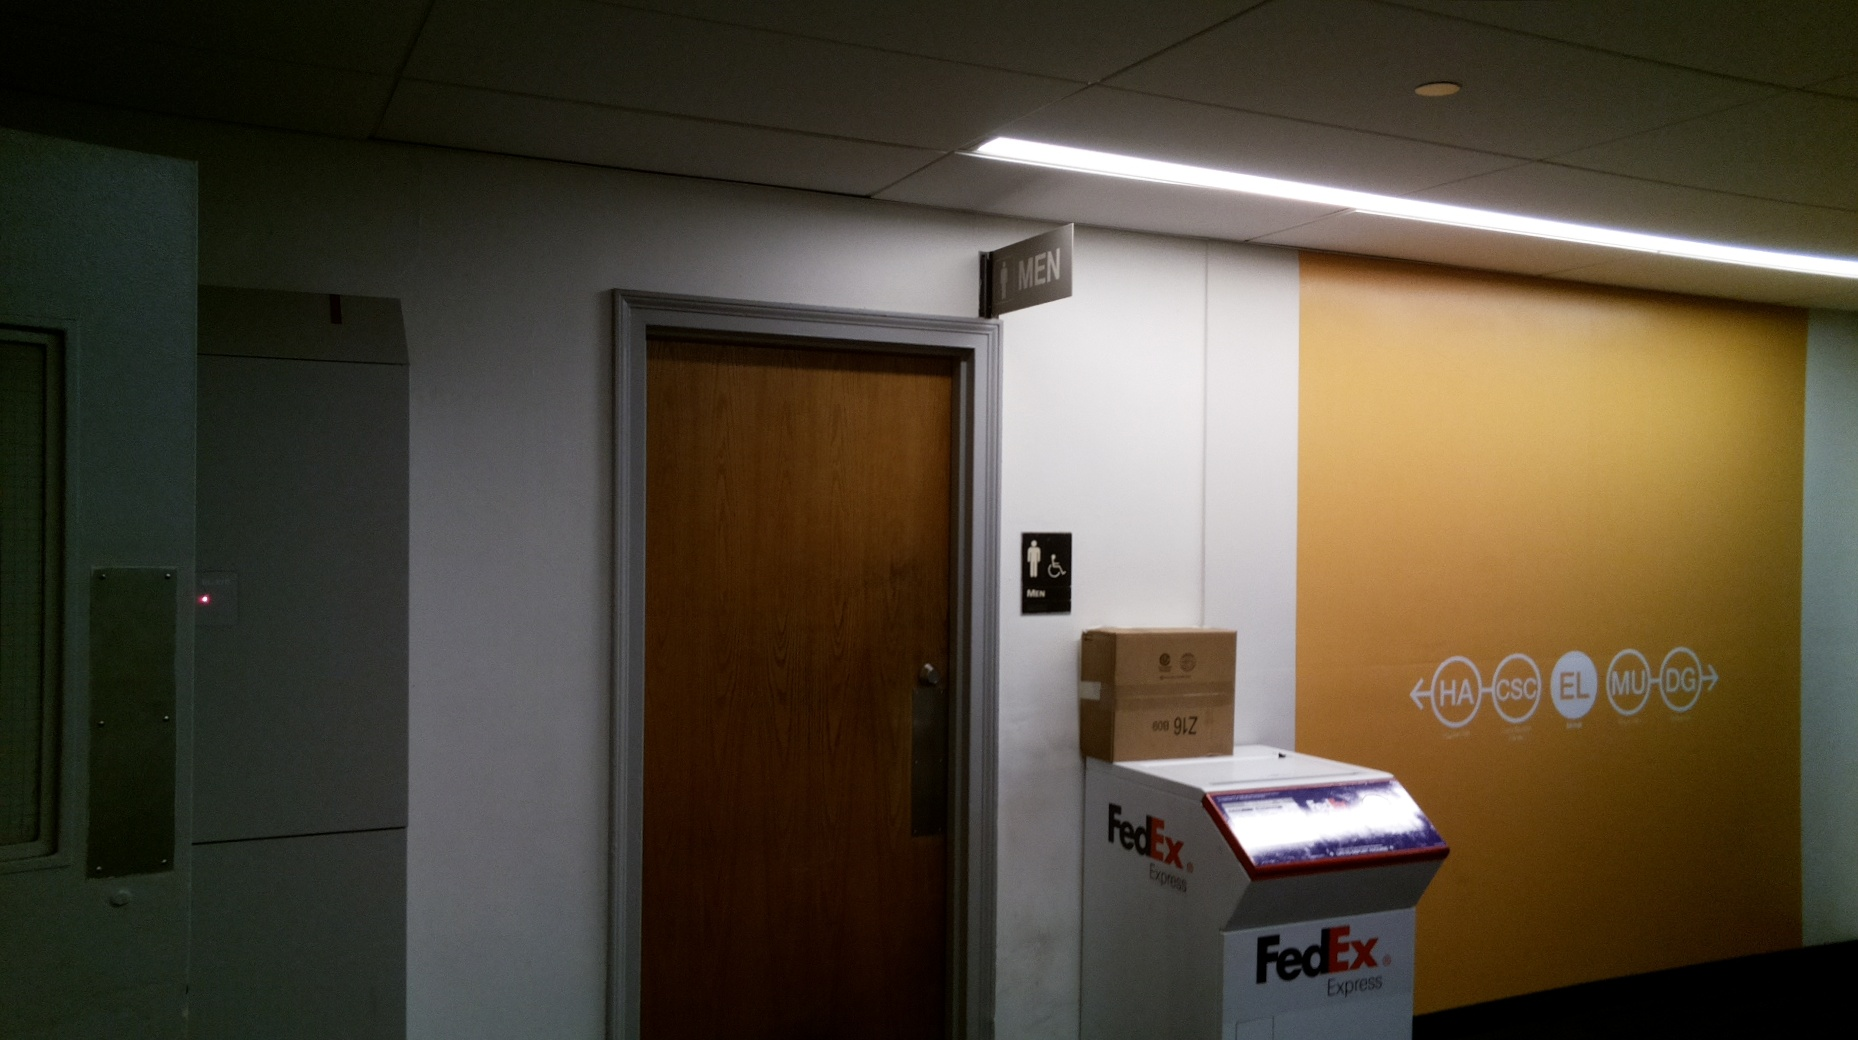bathroom sign: (1017, 526, 1076, 621)
